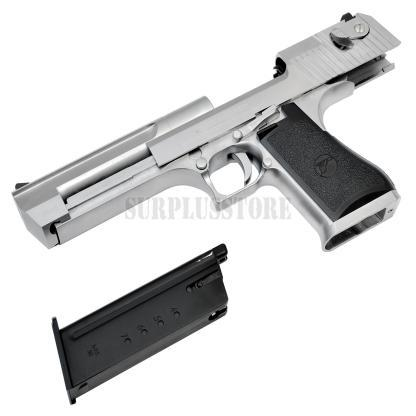Pistol: (11, 19, 415, 376)
